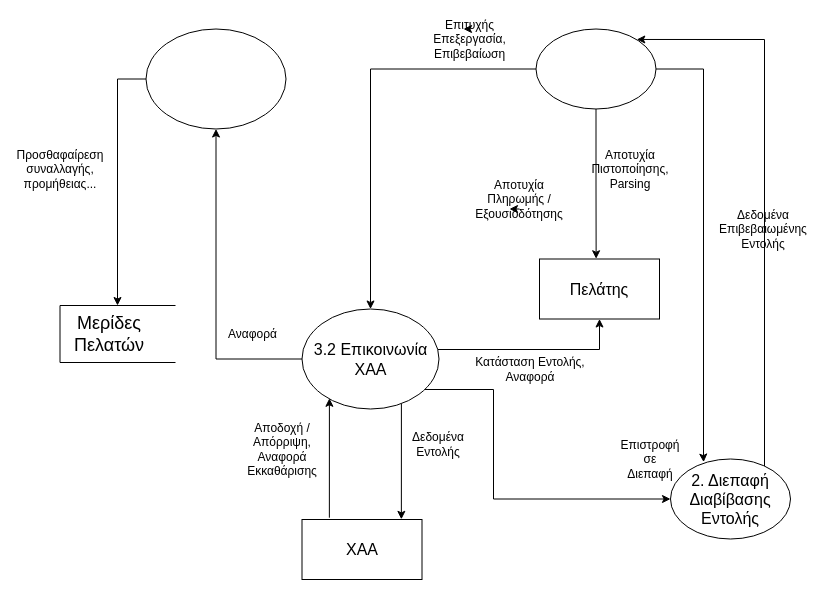
Some shapes in this 825 by 597 pixel diagram are drawn without their labels. Each missing label, with the centre of its shape:
"3.1 Επεξεργασία Εντολής" goes at point 595,68.
"3.3 Ενημέρωση Μεριδών" goes at point 215,78.
